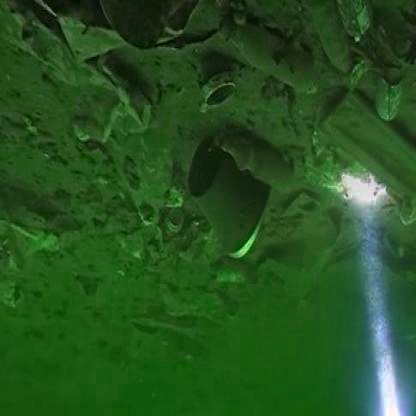plastic: (163, 135, 279, 272)
